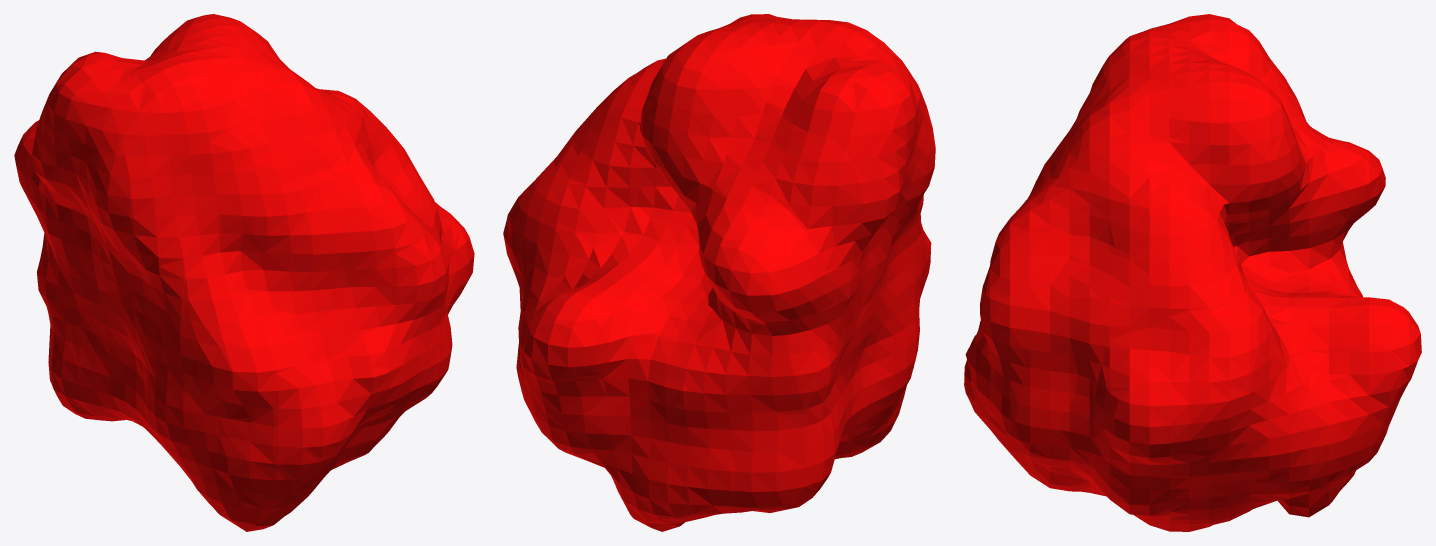
Rendered from speE_coarse.dae.
3 views of the same model, side by side, from view 1: azimuth 30°, elevation 25°; view 2: azimuth 150°, elevation 25°; view 3: azimuth 270°, elevation 25° (orthographic). The views are drawn at different scales.
Parts seen in each view (by area): view 1: speE; view 2: speE; view 3: speE.
Boxes of the visible parts, x1=… form: speE: x1=14, y1=14, x2=474, y2=531; speE: x1=503, y1=14, x2=935, y2=531; speE: x1=964, y1=14, x2=1421, y2=531.
Size of the model in its own units: 50.07 by 54.26 by 51.54.
